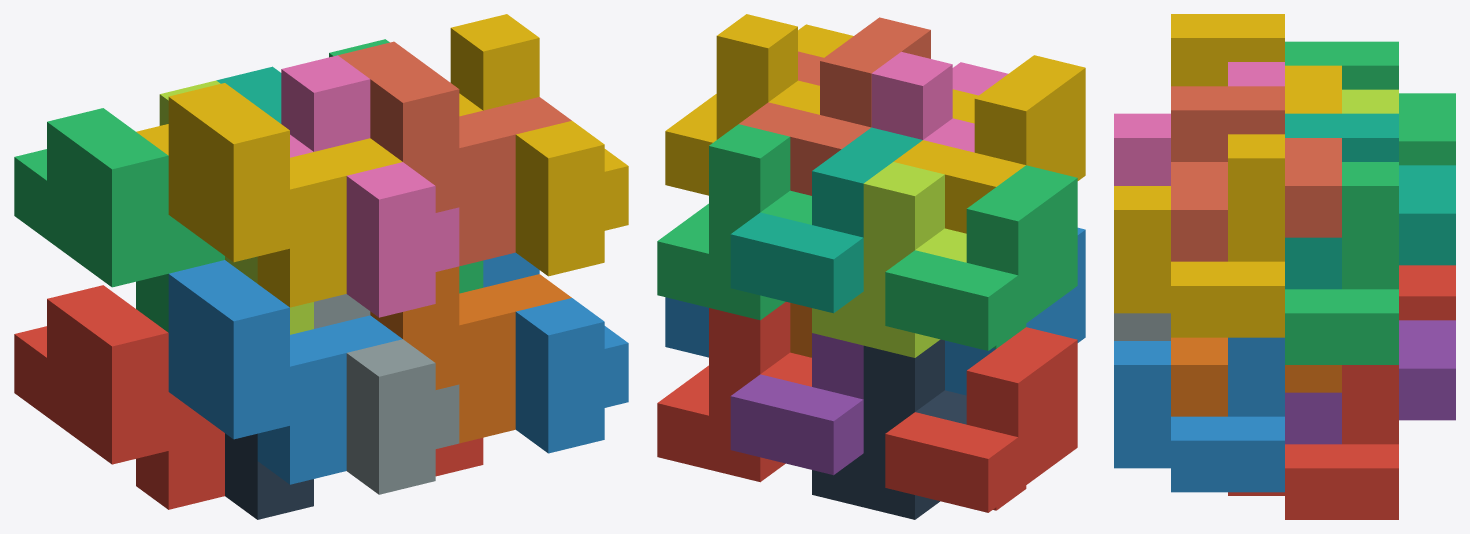
File: tiling.obj
3 renders of one model, left to right at view 1: azimuth 30°, elevation 25°; view 2: azimuth 150°, elevation 25°; view 3: azimuth 270°, elevation 25°, orthographic. The views are drawn at different scales.
Visible parts, largest first — view 1: copy_1_domain_4, copy_1_domain_2, copy_1_domain_1, copy_1_domain_3, copy_2_domain_8, copy_2_domain_4, copy_1_domain_8, copy_2_domain_6, copy_2_domain_2, copy_1_domain_6, copy_2_domain_1, copy_1_domain_7 (+3 smaller); view 2: copy_1_domain_3, copy_1_domain_1, copy_1_domain_4, copy_1_domain_7, copy_2_domain_7, copy_2_domain_5, copy_2_domain_8, copy_1_domain_5, copy_2_domain_3, copy_1_domain_8, copy_2_domain_1, copy_2_domain_4 (+3 smaller); view 3: copy_2_domain_8, copy_2_domain_6, copy_1_domain_8, copy_2_domain_7, copy_2_domain_5, copy_1_domain_7, copy_1_domain_4, copy_1_domain_5, copy_1_domain_3, copy_1_domain_6, copy_2_domain_4, copy_1_domain_1 (+2 smaller).
Part boxes in pixels (x1,y1,x2,y2): copy_1_domain_4: [136, 83, 402, 307]; copy_1_domain_2: [168, 260, 402, 484]; copy_1_domain_1: [14, 285, 224, 509]; copy_1_domain_3: [14, 108, 224, 332]; copy_2_domain_8: [450, 14, 628, 276]; copy_2_domain_4: [281, 55, 459, 317]; copy_1_domain_8: [338, 41, 571, 266]; copy_2_domain_6: [483, 252, 628, 453]; copy_2_domain_2: [314, 294, 459, 494]; copy_1_domain_6: [370, 266, 571, 443]; copy_2_domain_1: [225, 433, 313, 519]; copy_1_domain_7: [216, 66, 281, 123]; copy_1_domain_3: [885, 165, 1077, 350]; copy_1_domain_1: [885, 327, 1077, 512]; copy_1_domain_4: [893, 55, 1085, 233]; copy_1_domain_7: [730, 127, 922, 313]; copy_2_domain_7: [657, 124, 811, 320]; copy_2_domain_5: [657, 302, 811, 482]; copy_2_domain_8: [665, 14, 853, 195]; copy_1_domain_5: [730, 333, 863, 475]; copy_2_domain_3: [812, 162, 966, 357]; copy_1_domain_8: [739, 17, 930, 195]; copy_2_domain_1: [812, 339, 966, 519]; copy_2_domain_4: [871, 51, 1008, 152]; copy_2_domain_8: [1114, 134, 1284, 337]; copy_2_domain_6: [1114, 337, 1284, 492]; copy_1_domain_8: [1171, 86, 1341, 261]; copy_2_domain_7: [1285, 162, 1398, 364]; copy_2_domain_5: [1228, 365, 1398, 519]; copy_1_domain_7: [1285, 113, 1455, 289]; copy_1_domain_4: [1171, 14, 1341, 113]; copy_1_domain_5: [1285, 320, 1455, 444]; copy_1_domain_3: [1285, 41, 1455, 165]; copy_1_domain_6: [1171, 337, 1341, 416]; copy_2_domain_4: [1114, 62, 1284, 185]; copy_1_domain_1: [1399, 265, 1455, 320].
Bounding box in the file's own units: 8 × 7 × 6.
